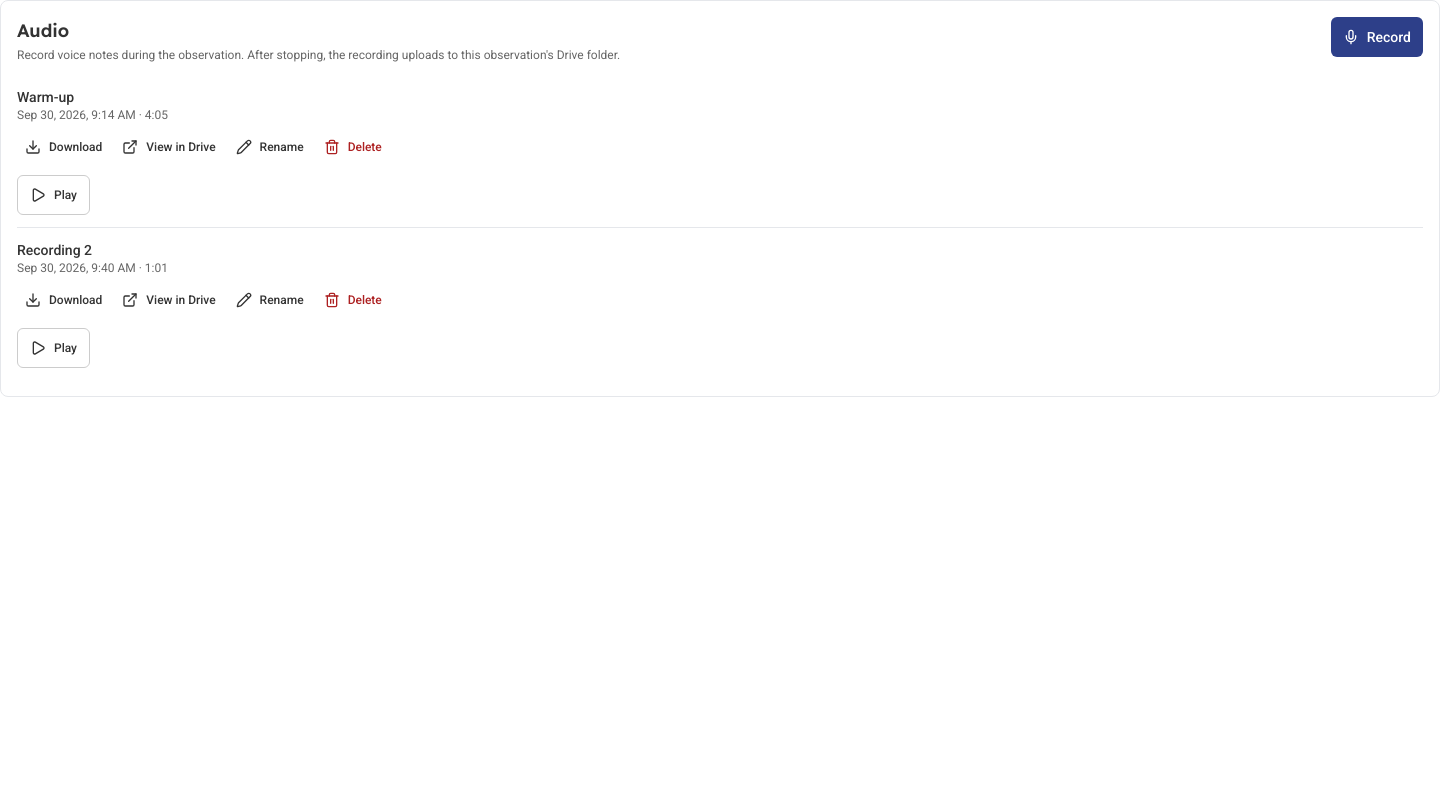
Scenario: <AudioRecorder> recording › discards a failed recording only after confirming
The image size is (1440, 810).
Click the button "Record".
click(1377, 37)  # box [1331,17,1423,57]
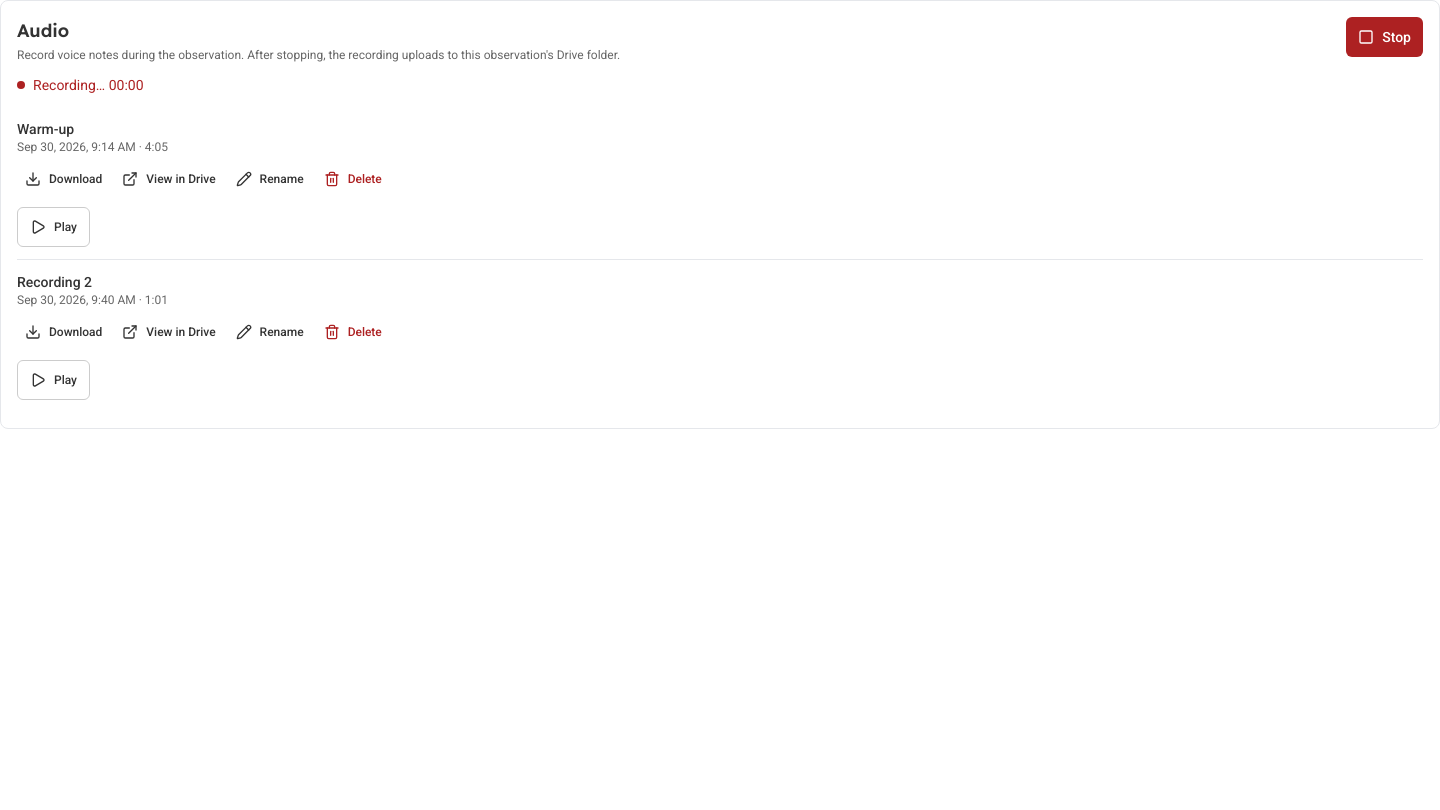
Click the button "Stop".
click(1385, 37)  # box [1346,17,1423,57]
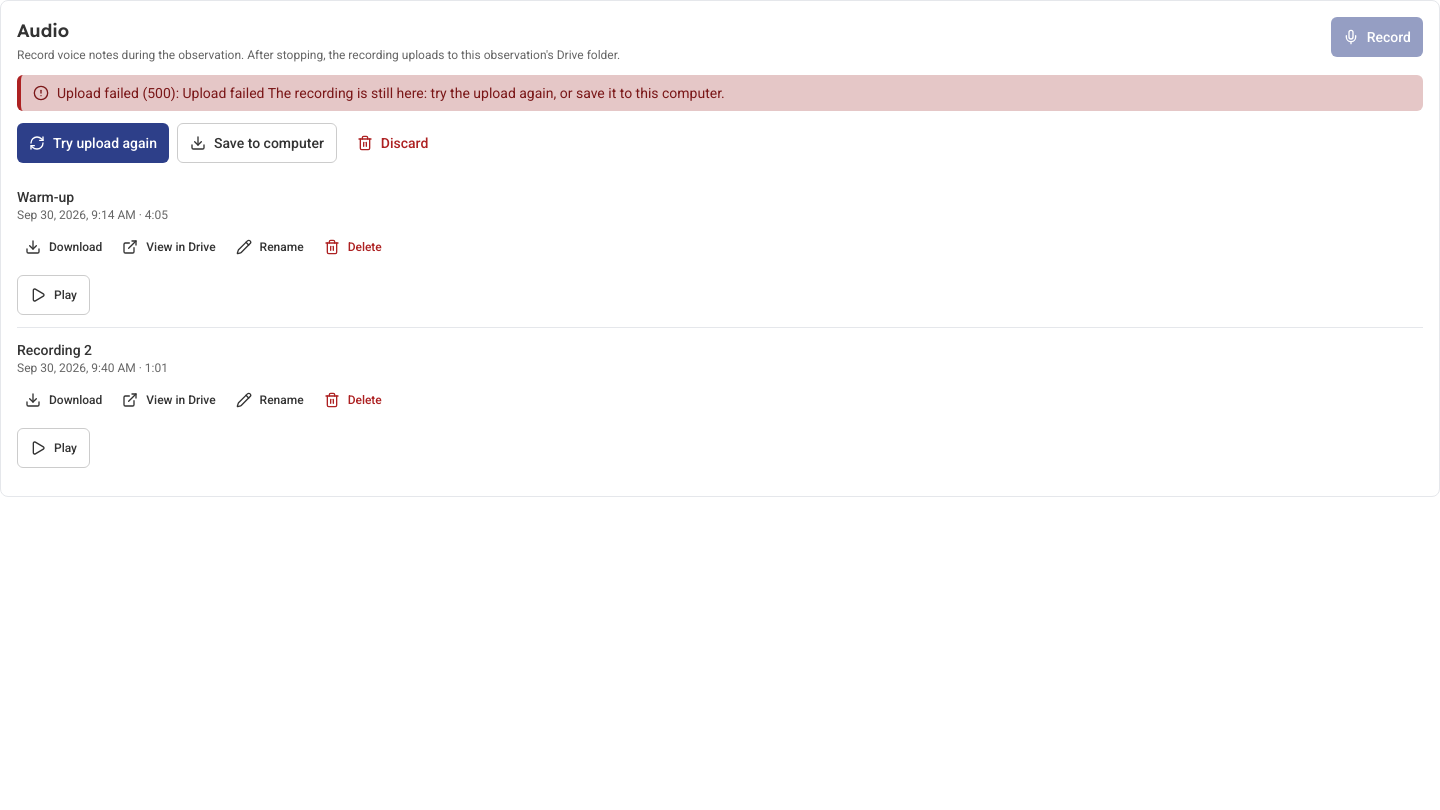
Click the button "Discard".
click(393, 143)  # box [345,123,440,163]
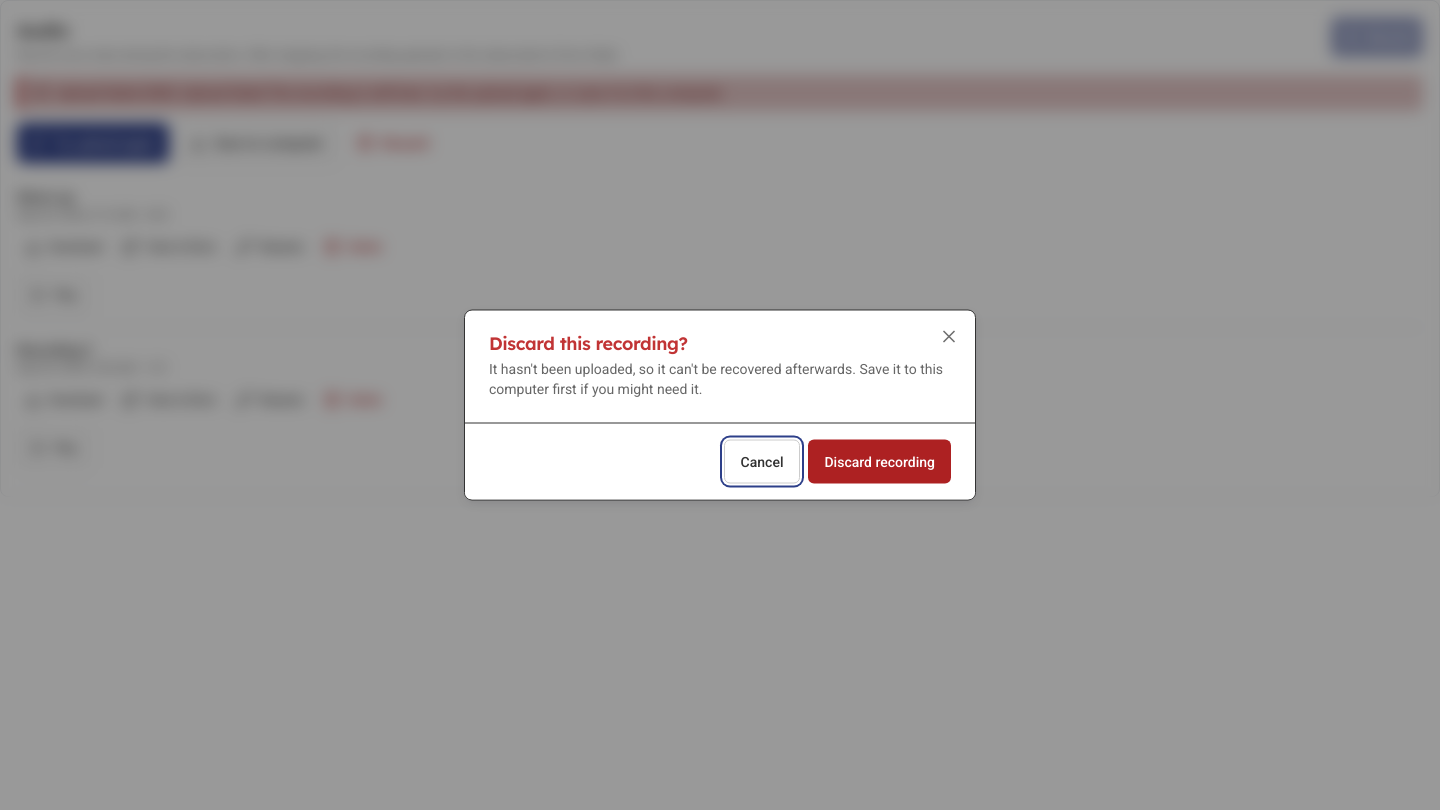
Click the button "Discard recording".
click(880, 462)  # box [808,440,951,484]
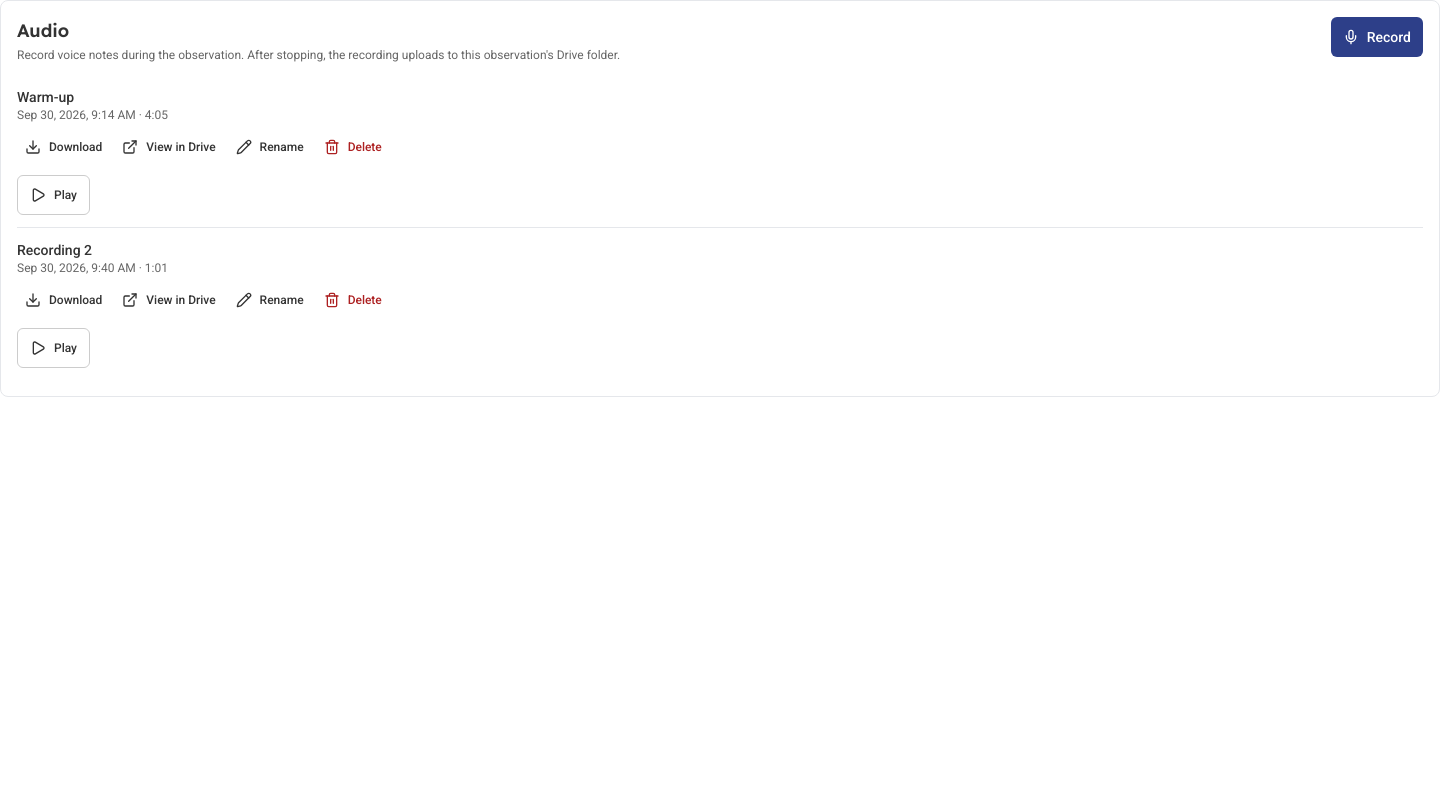
Now the text "The recording is still here" is gone
Now the button "Record" is enabled, box [1331,17,1423,57]
